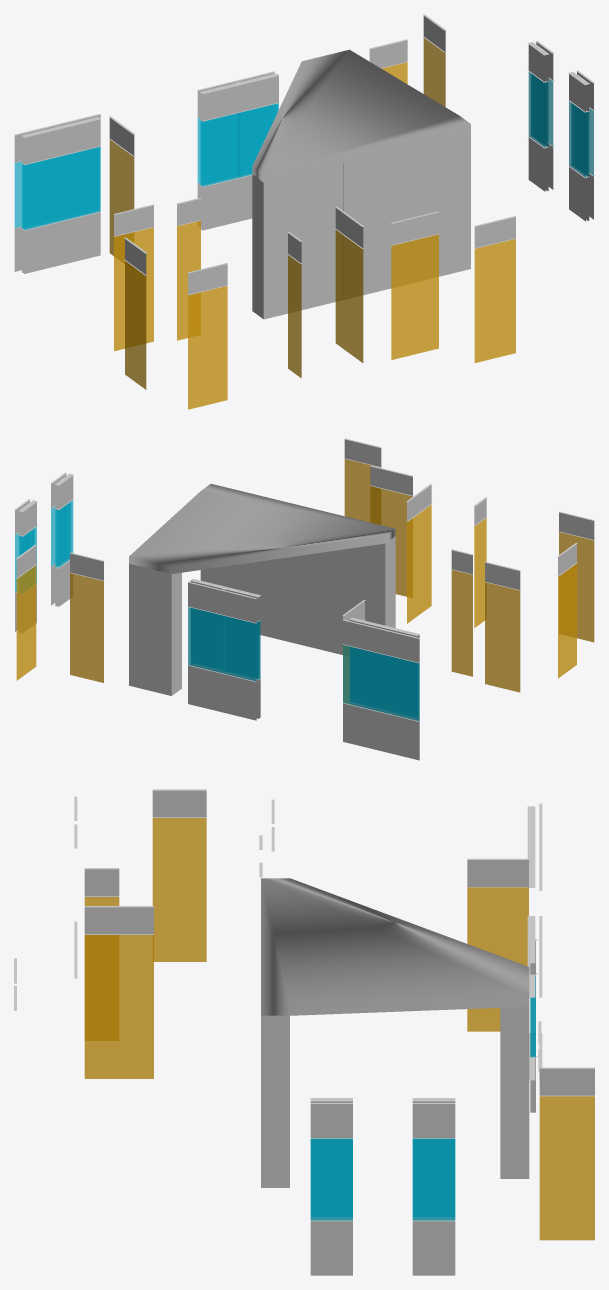
Rendered from 6b507fa3-9d5a-430b-b6ad-960cca49226c.glb.
3 renders of one model, top to bottom at view 1: azimuth 30°, elevation 25°; view 2: azimuth 150°, elevation 25°; view 3: azimuth 270°, elevation 25°, orthographic. The views are drawn at different scales.
Visible parts, largest first — view 1: walls, doors, roof, windows; view 2: walls, doors, roof, windows; view 3: doors, walls, roof, windows.
Boxes of the visible parts, x1,y1,x2,y2 form: walls: (14, 14, 594, 319); doors: (109, 37, 515, 409); roof: (252, 49, 470, 182); windows: (14, 72, 593, 230); walls: (14, 438, 594, 760); doors: (16, 459, 594, 703); roof: (129, 483, 395, 573); windows: (15, 500, 419, 721); doors: (84, 818, 594, 1240); walls: (14, 789, 594, 1275); roof: (261, 878, 529, 1015); windows: (310, 975, 535, 1220).
Size of the model in its own units: 9.8 by 2.65 by 7.64.
